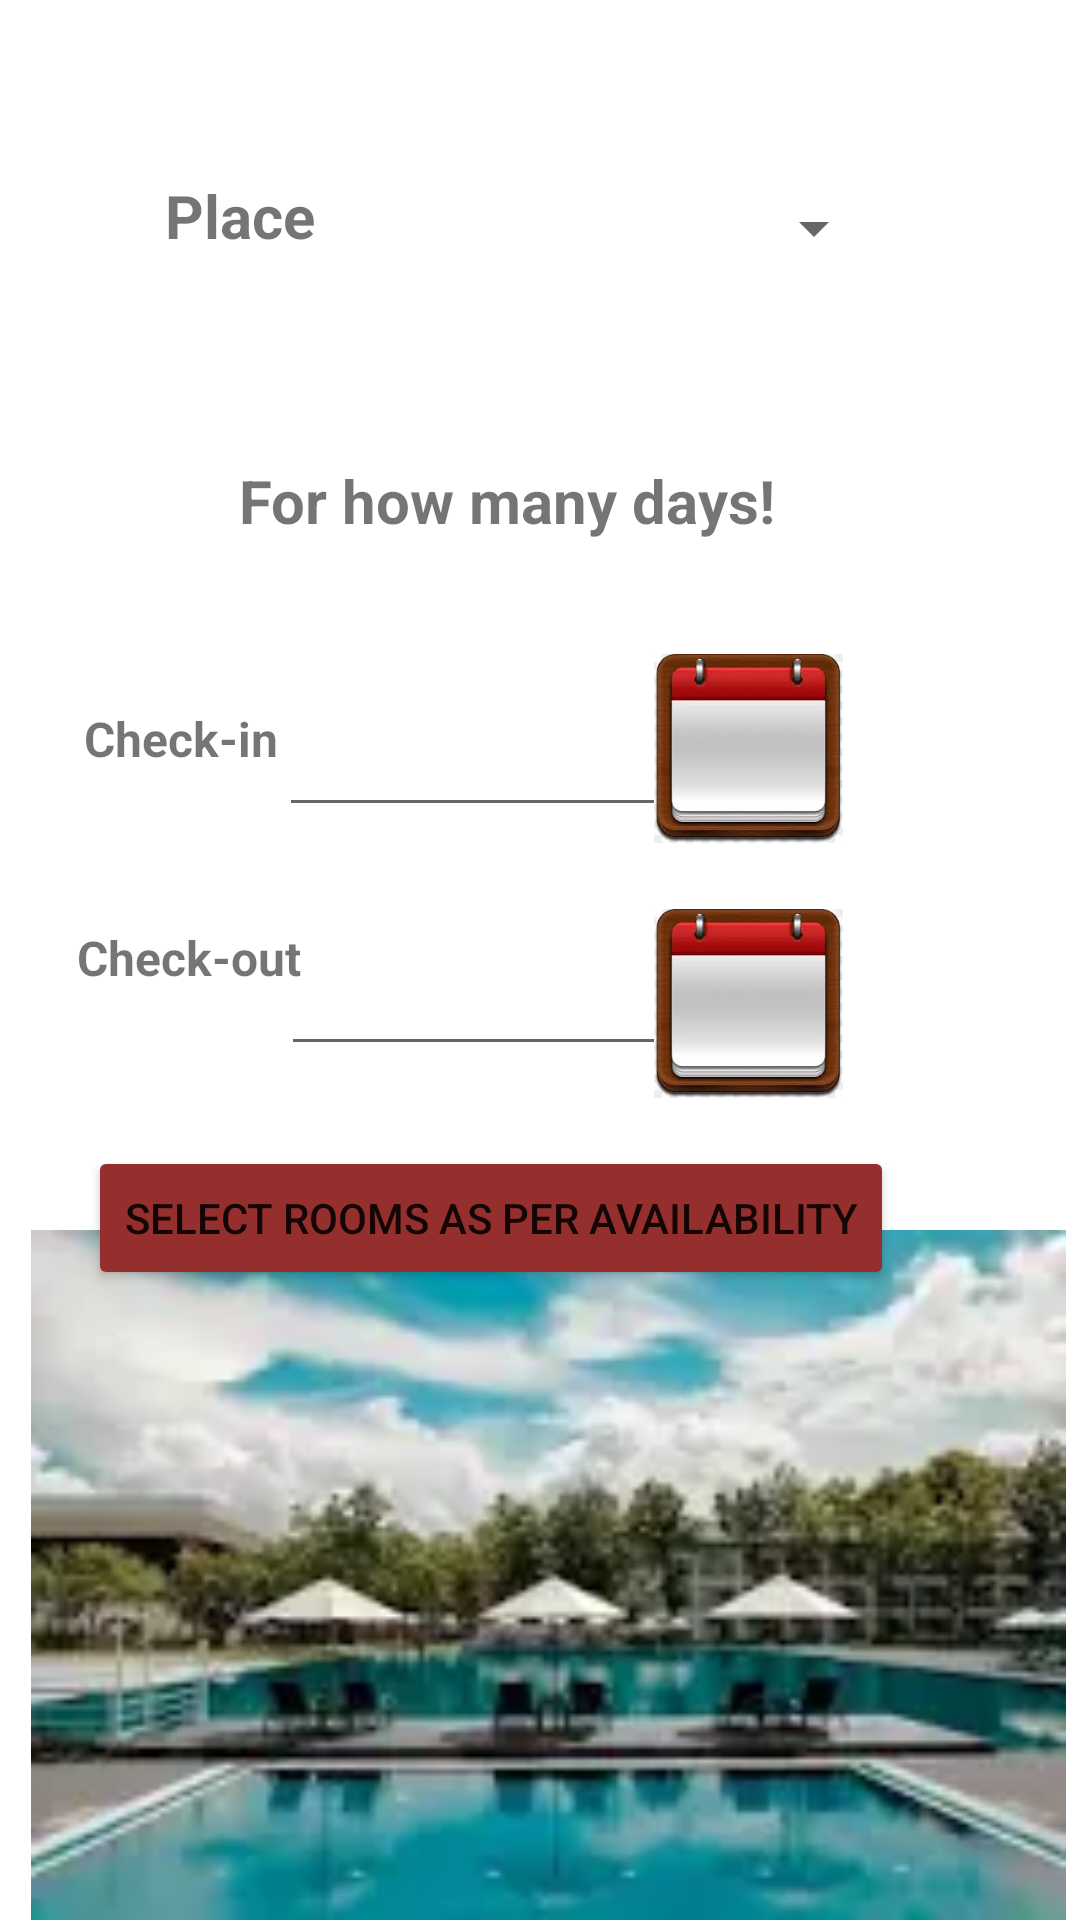

Icon bounding boxes for this 1080x1920 phone screenshot, format (x1, y1, x2, y2):
cald: (654, 654, 842, 843), (654, 909, 842, 1098)
